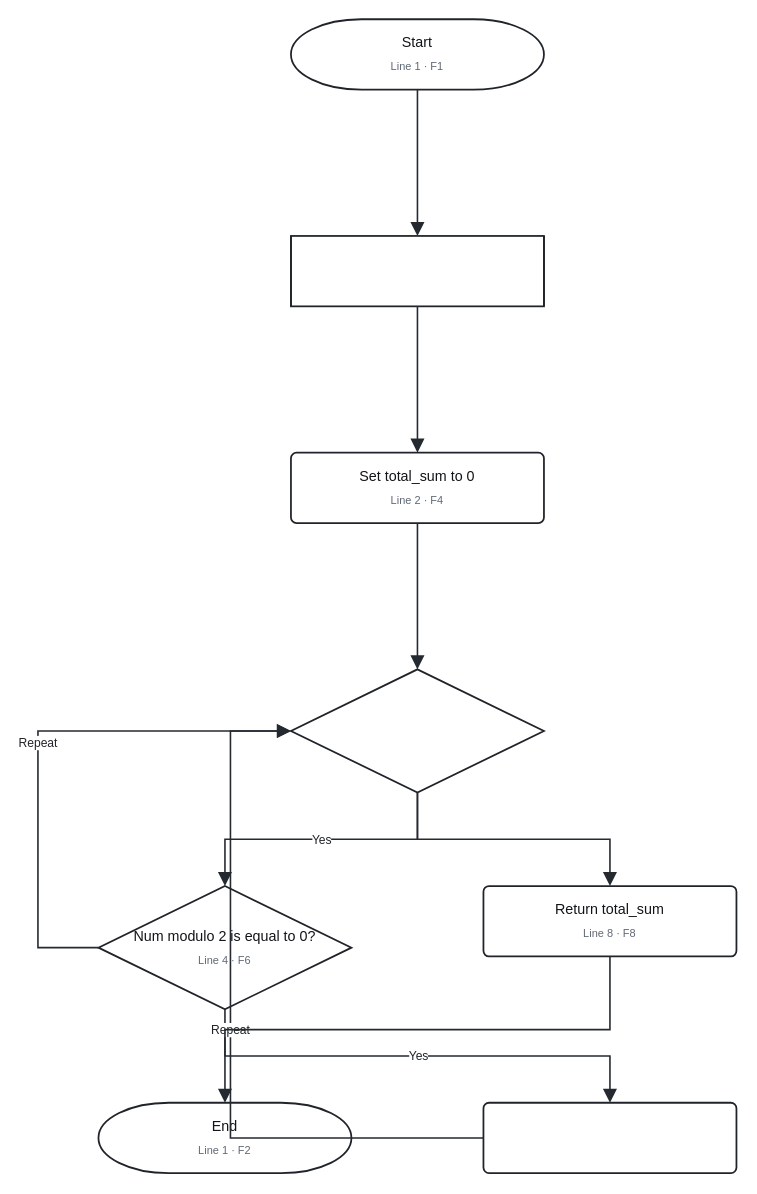
The diagram is 757 pixels wide and 1194 high, and some of its shapes have lost their labels. The centre of each missing label's shape, as x and y in pixels:
"For each num in numbers Line 3 · F5" belongs at (417,730).
"Run function SumEvenNumbers with numbers Line 1 · F3" belongs at (417,271).
"Set total_sum to total_sum plus num Line 5 · F7" belongs at (609,1137).
